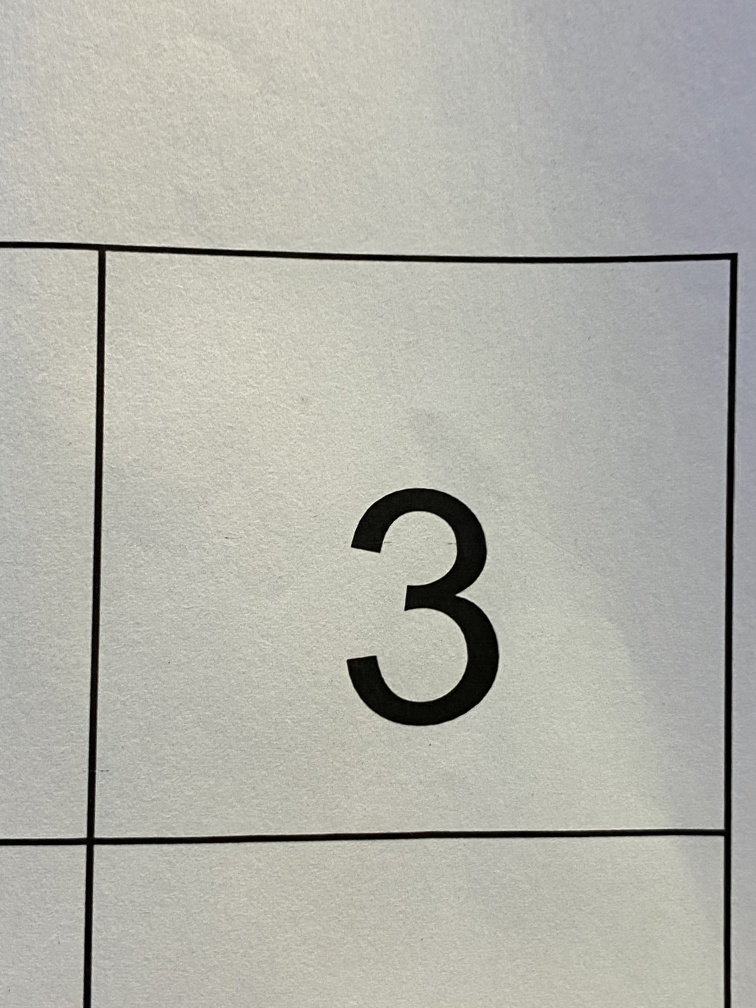three: (278, 425, 571, 796)
